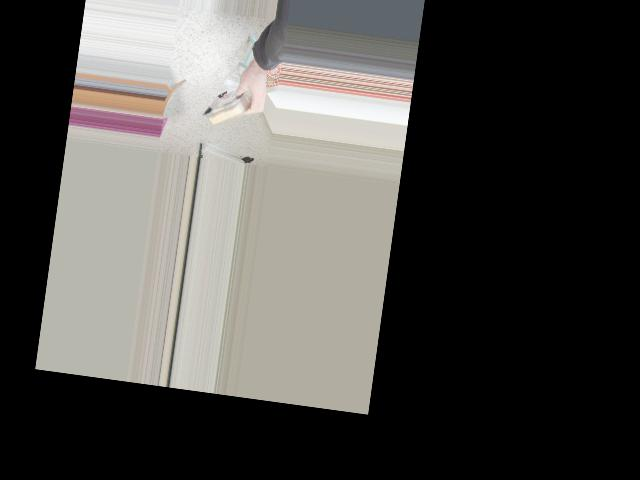cheese: (191, 71, 274, 141)
